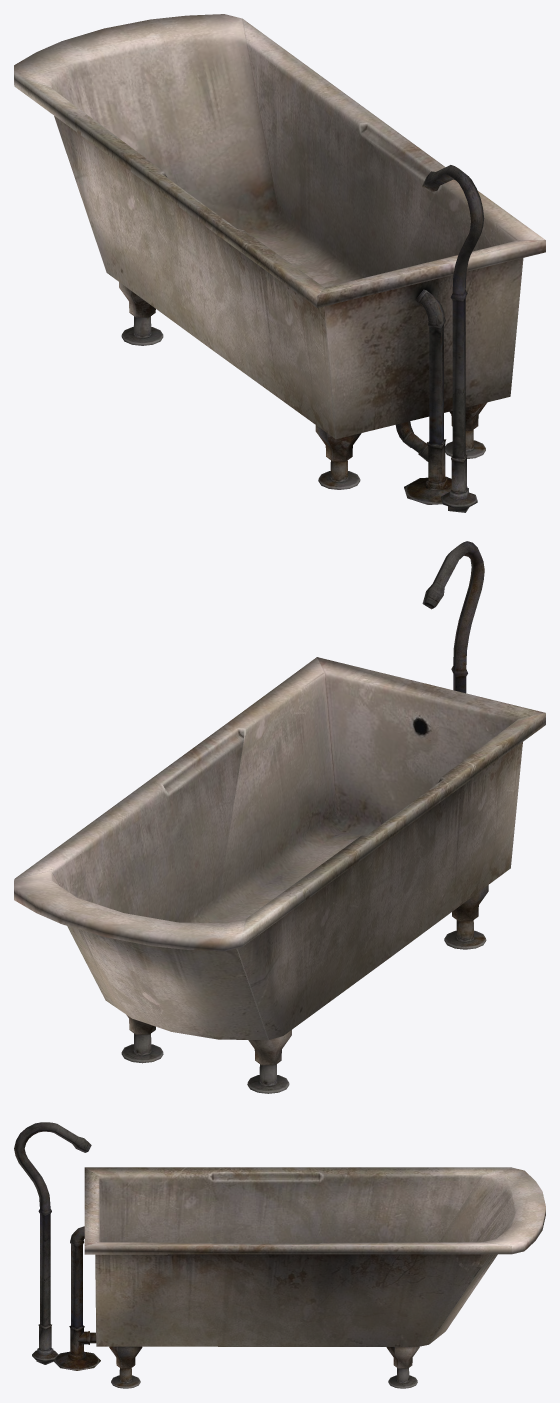
File: hydro_bath.glb
3 views of the same model, one above another, from view 1: azimuth 30°, elevation 25°; view 2: azimuth 150°, elevation 25°; view 3: azimuth 270°, elevation 25° (orthographic). The views are drawn at different scales.
Visible parts, largest first — view 1: clip; view 2: clip; view 3: clip.
Boxes of the visible parts, <box> form: clip: <box>14,14,545,512</box>; clip: <box>14,541,545,1093</box>; clip: <box>14,1122,545,1388</box>.
Size of the model in its own units: 0.9314 by 1.32 by 2.66.
Materials: 1 (1 with a texture image).
